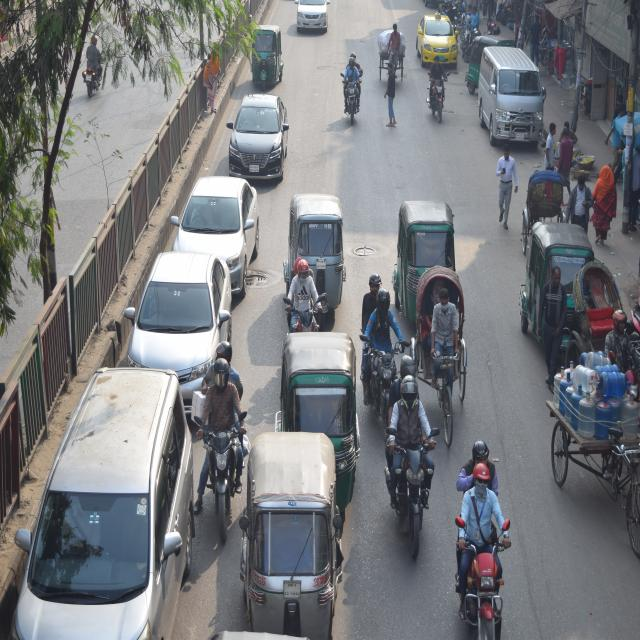car: (32, 360, 200, 640), (132, 236, 225, 397), (179, 170, 256, 305), (230, 90, 297, 186)
microbus: (472, 40, 560, 173)
motorbike: (453, 428, 516, 636), (380, 376, 447, 554), (195, 334, 252, 539), (358, 297, 409, 414), (420, 58, 455, 124), (340, 50, 368, 126), (82, 36, 106, 102)
